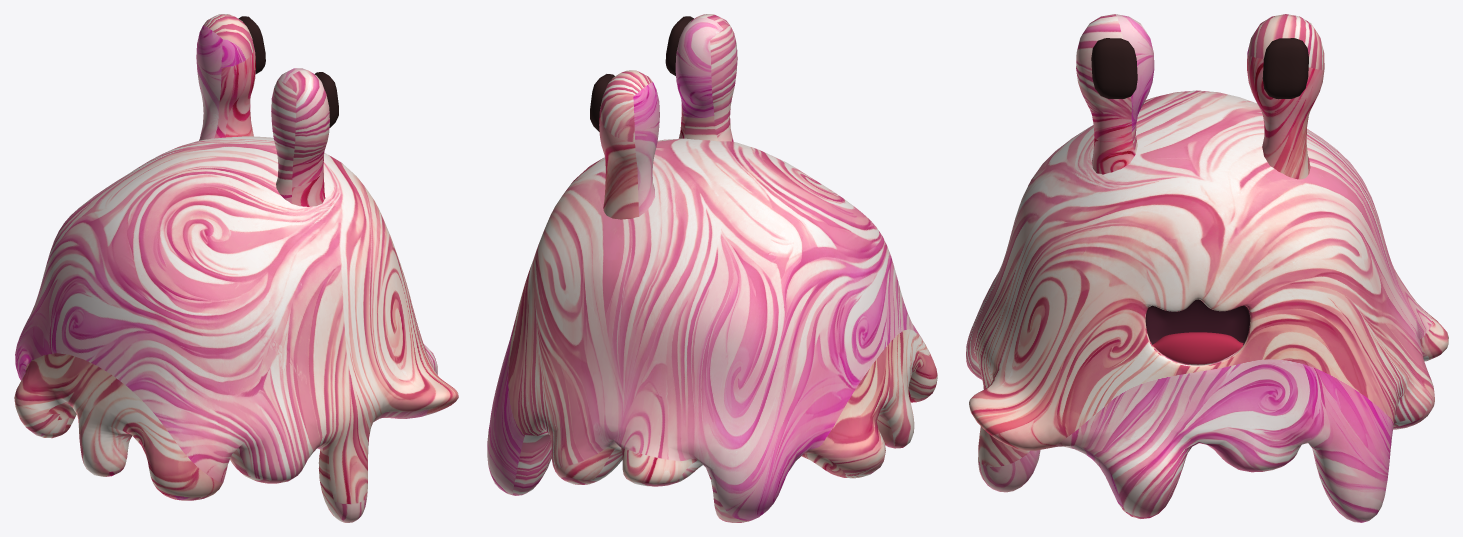
File: ErdbeereTexturiert.fbx
3 renders of one model, left to right at view 1: azimuth 30°, elevation 25°; view 2: azimuth 150°, elevation 25°; view 3: azimuth 270°, elevation 25°, orthographic. The views are drawn at different scales.
Parts seen in each view (by area): view 1: Schnecke; view 2: Schnecke; view 3: Schnecke.
Part boxes in pixels (bbox=[...]): Schnecke: bbox=[14, 14, 458, 522]; Schnecke: bbox=[487, 14, 937, 522]; Schnecke: bbox=[966, 14, 1448, 522].
Size of the model in its own units: 305 by 323 by 298.
